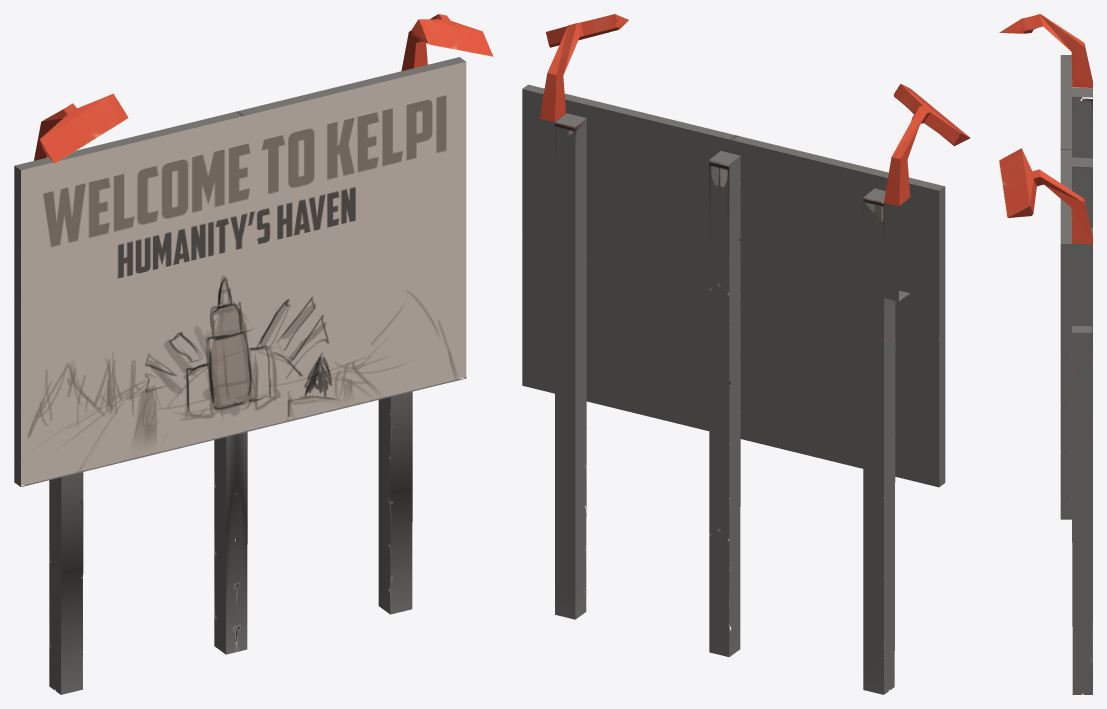
Rendered from Kelpi_BillBoard.FBX.
3 views of the same model, side by side, from view 1: azimuth 30°, elevation 25°; view 2: azimuth 150°, elevation 25°; view 3: azimuth 270°, elevation 25° (orthographic). The views are drawn at different scales.
Parts seen in each view (by area): view 1: Box014; view 2: Box014; view 3: Box014.
Boxes of the visible parts, bbox=[...] form: Box014: bbox=[14, 14, 493, 694]; Box014: bbox=[522, 14, 970, 694]; Box014: bbox=[999, 14, 1092, 694].
Size of the model in its own units: 872 by 1155 by 183.
